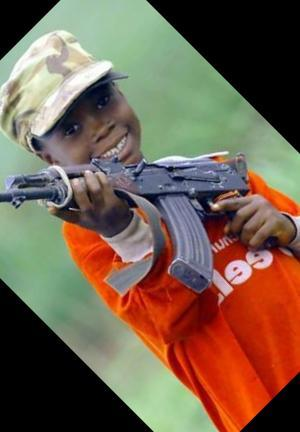larga: (0, 155, 251, 293)
